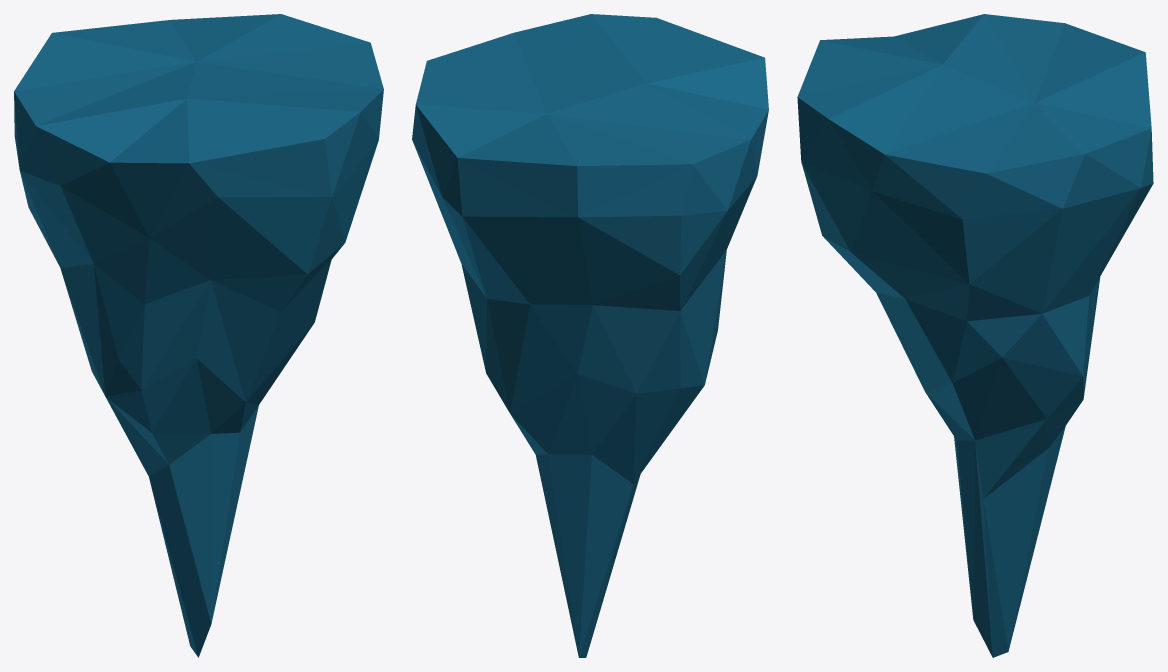
Rendered from FloatingLand02.fbx.
3 views of the same model, side by side, from view 1: azimuth 30°, elevation 25°; view 2: azimuth 150°, elevation 25°; view 3: azimuth 270°, elevation 25° (orthographic). The views are drawn at different scales.
Visible parts, largest first — view 1: Icosphere.013; view 2: Icosphere.013; view 3: Icosphere.013.
Boxes of the visible parts, box(x1,y1,x2,y2) form: Icosphere.013: box(14, 14, 383, 657); Icosphere.013: box(412, 14, 768, 657); Icosphere.013: box(797, 14, 1153, 657).
Size of the model in its own units: 176 by 295 by 165.
